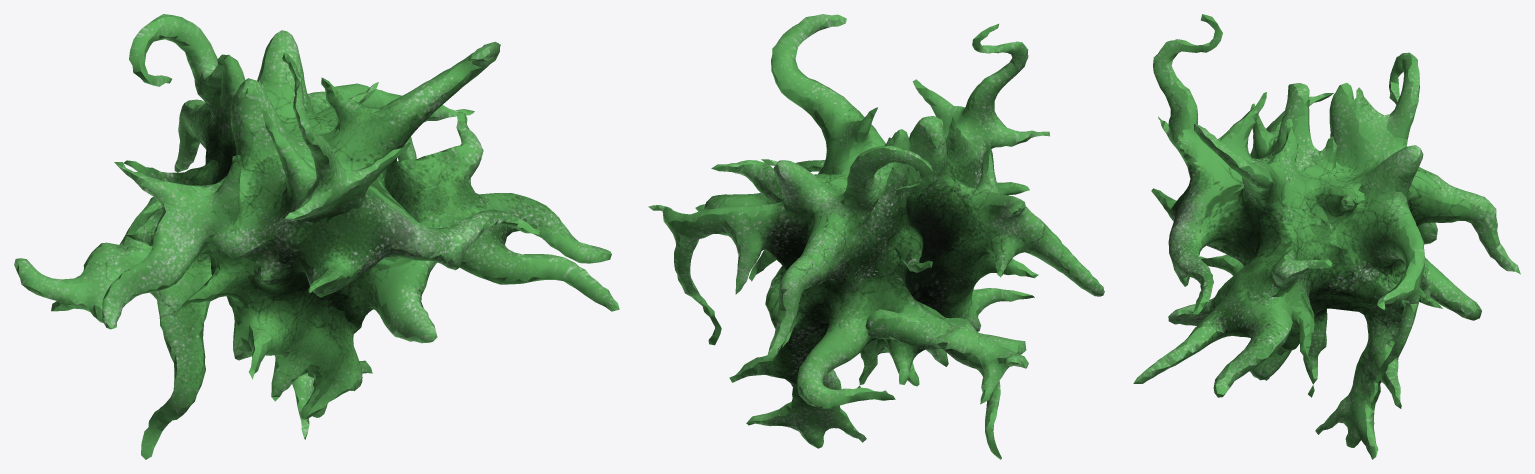
Rendered from alien_plant.dae.
3 views of the same model, side by side, from view 1: azimuth 30°, elevation 25°; view 2: azimuth 150°, elevation 25°; view 3: azimuth 270°, elevation 25° (orthographic). The views are drawn at different scales.
Visible parts, largest first — view 1: Sphere_1; view 2: Sphere_1; view 3: Sphere_1.
Boxes of the visible parts, left/top/right/bottom form: Sphere_1: left=14, top=14, right=619, bottom=459; Sphere_1: left=648, top=14, right=1104, bottom=459; Sphere_1: left=1133, top=14, right=1520, bottom=459.
Bounding box in the file's own units: 11.08 × 8.99 × 9.84.
1 material, 1 textured.
